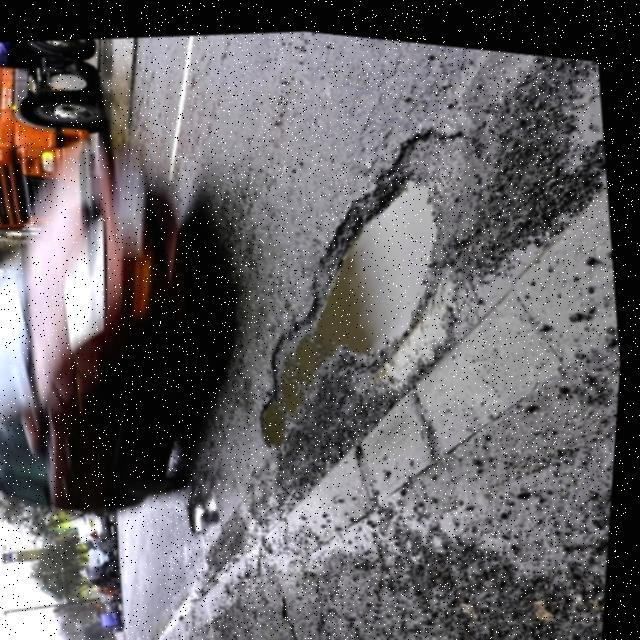pothole: (206, 117, 498, 465), (182, 468, 243, 534)
